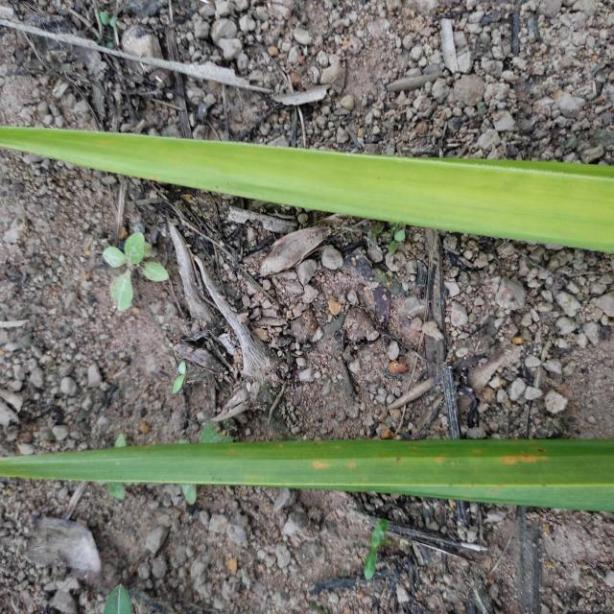nitrogen: (0, 112, 614, 261), (0, 430, 614, 510)
